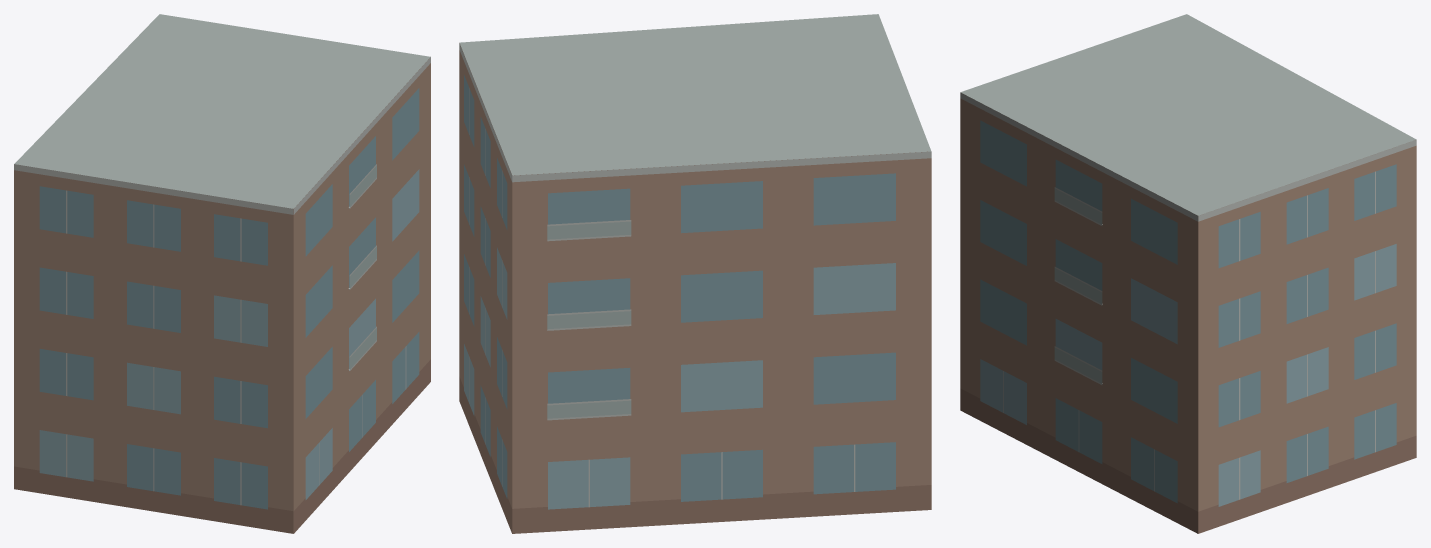
File: survey-upis-32746247.glb
3 renders of one model, left to right at view 1: azimuth 30°, elevation 25°; view 2: azimuth 150°, elevation 25°; view 3: azimuth 270°, elevation 25°, orthographic. The views are drawn at different scales.
Parts seen in each view (by area): view 1: survey-upis-32746247.tmp; view 2: survey-upis-32746247.tmp; view 3: survey-upis-32746247.tmp.
Boxes of the visible parts, x1,y1,x2,y2 form: survey-upis-32746247.tmp: (14,14,430,533); survey-upis-32746247.tmp: (459,14,931,533); survey-upis-32746247.tmp: (960,14,1416,533).
Size of the model in its own units: 17.69 by 13 by 16.91.
